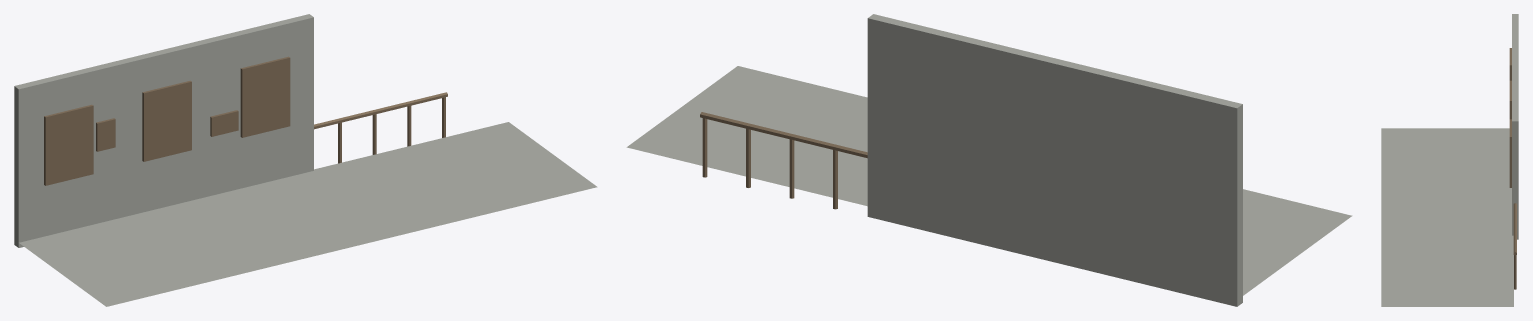
Rendered from homehallway.fbx.
The picture shows the model from 3 angles, left to right: view 1: azimuth 30°, elevation 25°; view 2: azimuth 150°, elevation 25°; view 3: azimuth 270°, elevation 25°; orthographic projection. The views are drawn at different scales.
Parts seen in each view (by area): view 1: pPlane124, pPlane125, pPlane126, pPlane127, pPlane128, pCylinder113, pPlane129, pPlane130; view 2: pPlane125, pPlane124, pCylinder113; view 3: pPlane124, pPlane125, pCylinder113, pPlane126, pPlane128.
Boxes of the visible parts, x1,y1,x2,y2 form: pPlane124: (19, 122, 597, 306); pPlane125: (14, 14, 313, 247); pPlane126: (240, 56, 290, 137); pPlane127: (44, 104, 93, 185); pPlane128: (142, 80, 191, 161); pCylinder113: (314, 92, 447, 129); pPlane129: (210, 110, 238, 136); pPlane130: (96, 118, 115, 151); pPlane125: (867, 14, 1242, 306); pPlane124: (626, 66, 1352, 295); pCylinder113: (700, 112, 867, 158); pPlane124: (1381, 128, 1513, 306); pPlane125: (1512, 14, 1518, 239); pCylinder113: (1513, 203, 1516, 255); pPlane126: (1509, 119, 1511, 187); pPlane128: (1509, 83, 1511, 119).
Size of the model in its own units: 14.15 by 4.41 by 4.6.
